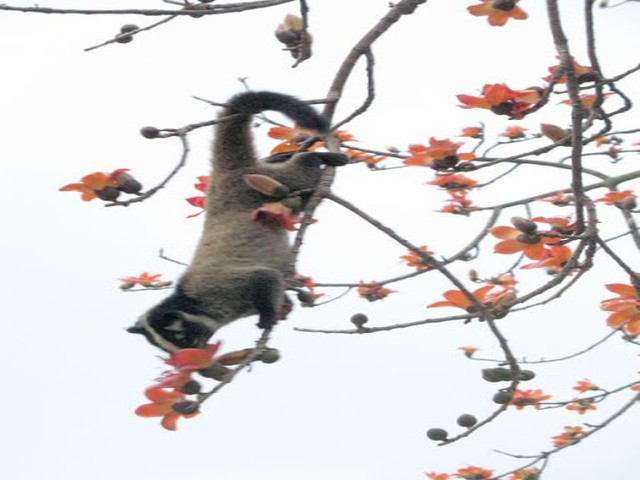civet: (127, 90, 358, 380)
